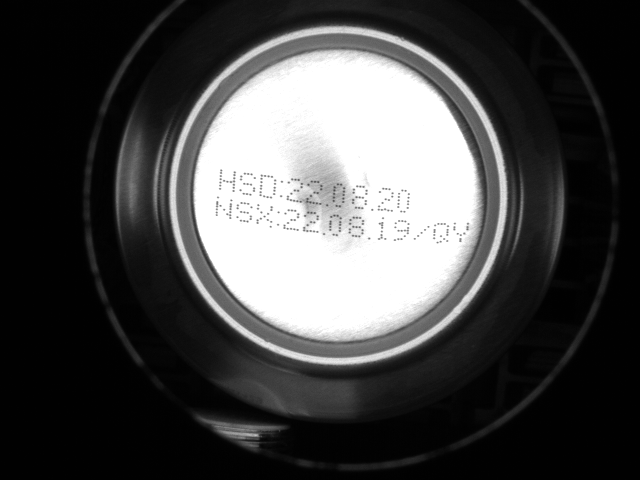/: (415, 224, 429, 242)
0: (327, 180, 346, 209), (327, 211, 344, 241), (396, 189, 413, 215)
1: (375, 218, 390, 243)
2: (286, 174, 305, 205), (306, 178, 325, 207), (377, 186, 395, 214), (303, 210, 321, 236), (283, 209, 300, 234)
8: (351, 183, 369, 212), (348, 215, 367, 240)
9: (392, 218, 411, 242)
D: (258, 173, 278, 200)
H: (216, 167, 238, 194)
N: (214, 197, 234, 221)
Q: (432, 221, 451, 246)
S: (240, 169, 256, 198), (236, 200, 254, 224)
X: (257, 202, 275, 227)
Y: (454, 220, 471, 247)
